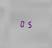five: (25, 19, 30, 28)
zero: (19, 19, 24, 27)
